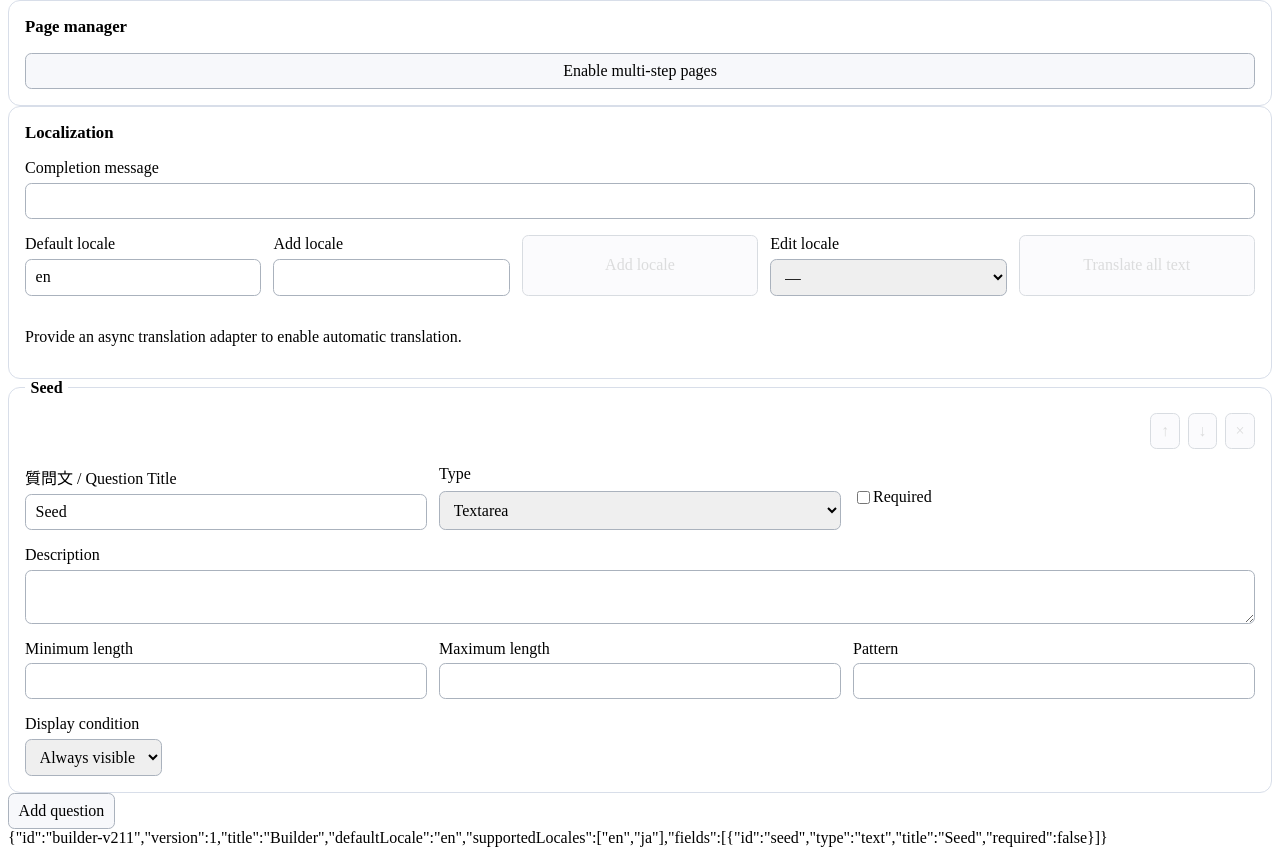
FormBuilder v2.1.1 › prefers an allowed defaultFieldType
(page scrolled)
Click the button "Add question". click: (62, 811)
box: [8,793,115,829]
(page scrolled)
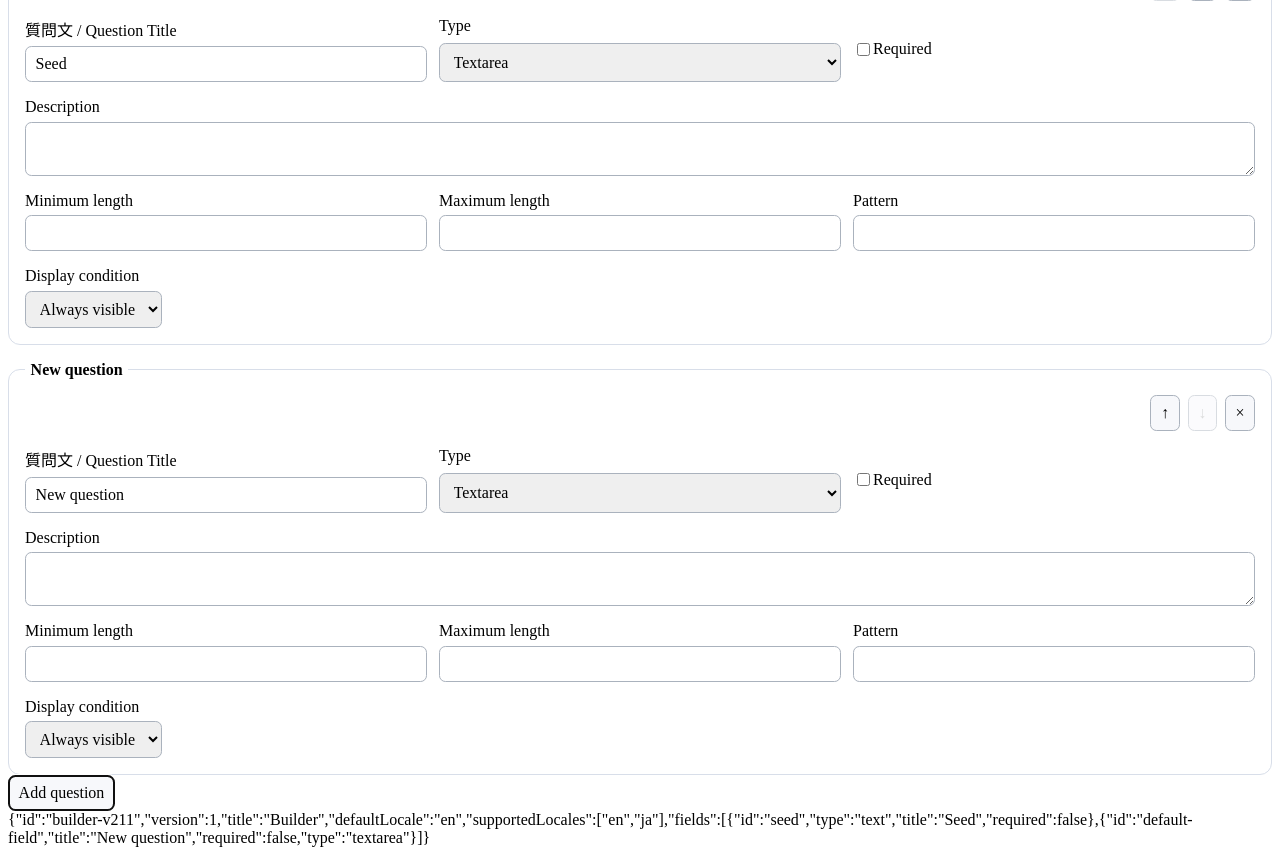
Check: the text with test id "schema-state" shows "\"type\":\"textarea\"", box [8,811,1193,846]
